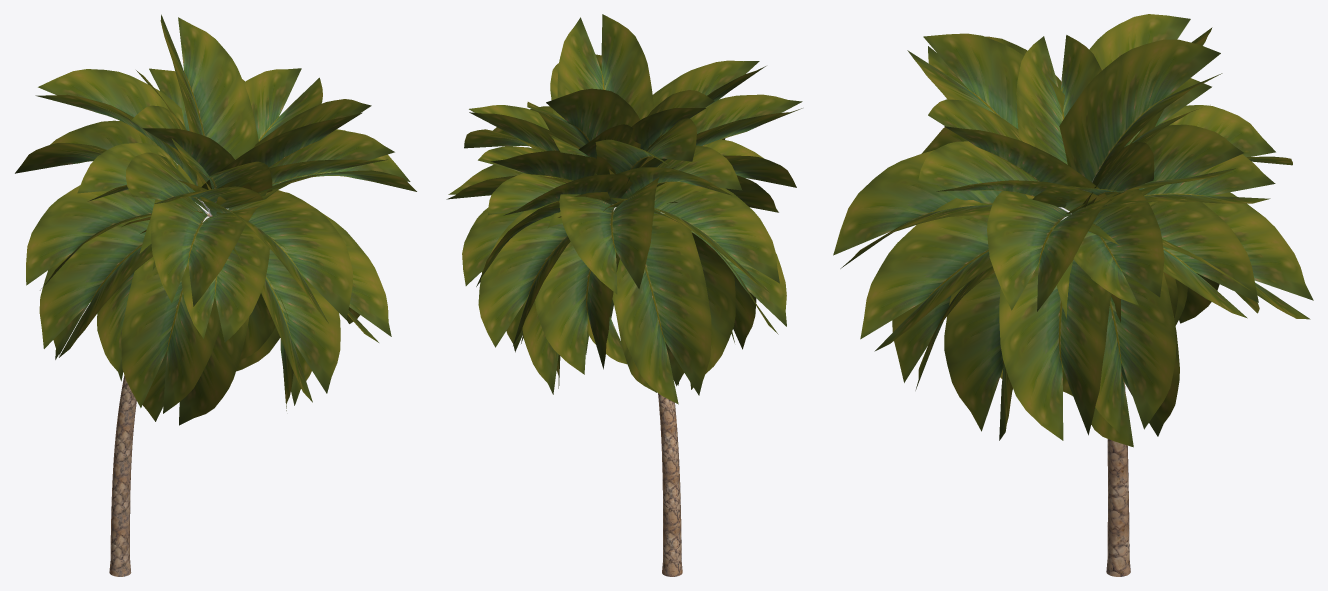
The model's file is PalmTreeCurved.obj.
3 views of the same model, side by side, from view 1: azimuth 30°, elevation 25°; view 2: azimuth 150°, elevation 25°; view 3: azimuth 270°, elevation 25° (orthographic). The views are drawn at different scales.
Visible parts, largest first — view 1: date palm leaf, palm01; view 2: date palm leaf, palm01; view 3: date palm leaf, palm01.
Boxes of the visible parts, bbox=[...] form: date palm leaf: bbox=[15, 14, 416, 425]; palm01: bbox=[109, 213, 212, 576]; date palm leaf: bbox=[446, 14, 802, 404]; palm01: bbox=[658, 393, 682, 576]; date palm leaf: bbox=[833, 14, 1313, 447]; palm01: bbox=[1106, 381, 1130, 576].
Size of the model in its own units: 349 by 481 by 367.
Materials: 3 (2 with a texture image).
